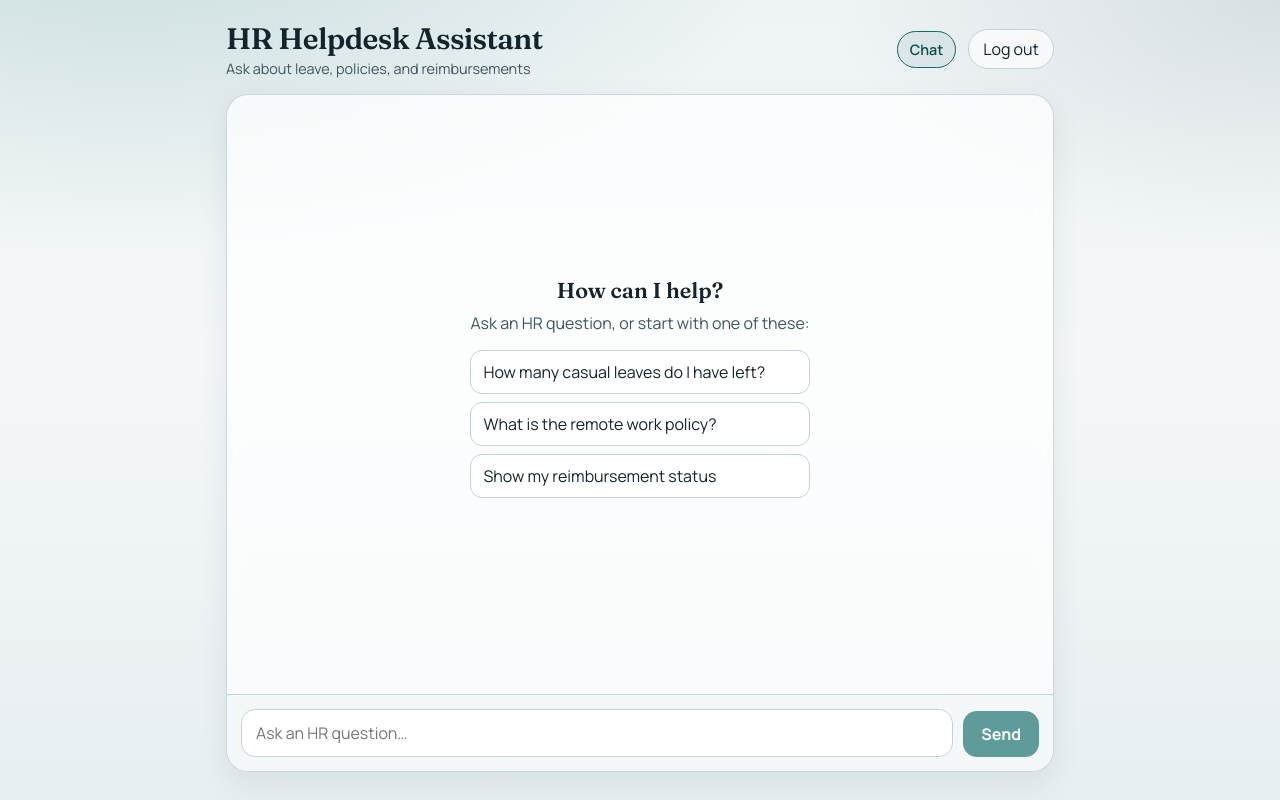
Test: Chat UI › shows distinct user and assistant bubbles with markdown
The width and height of the screenshot is (1280, 800).
In the text box named "Message": (597, 733) [241,709,953,757], type "How many casual leaves?"
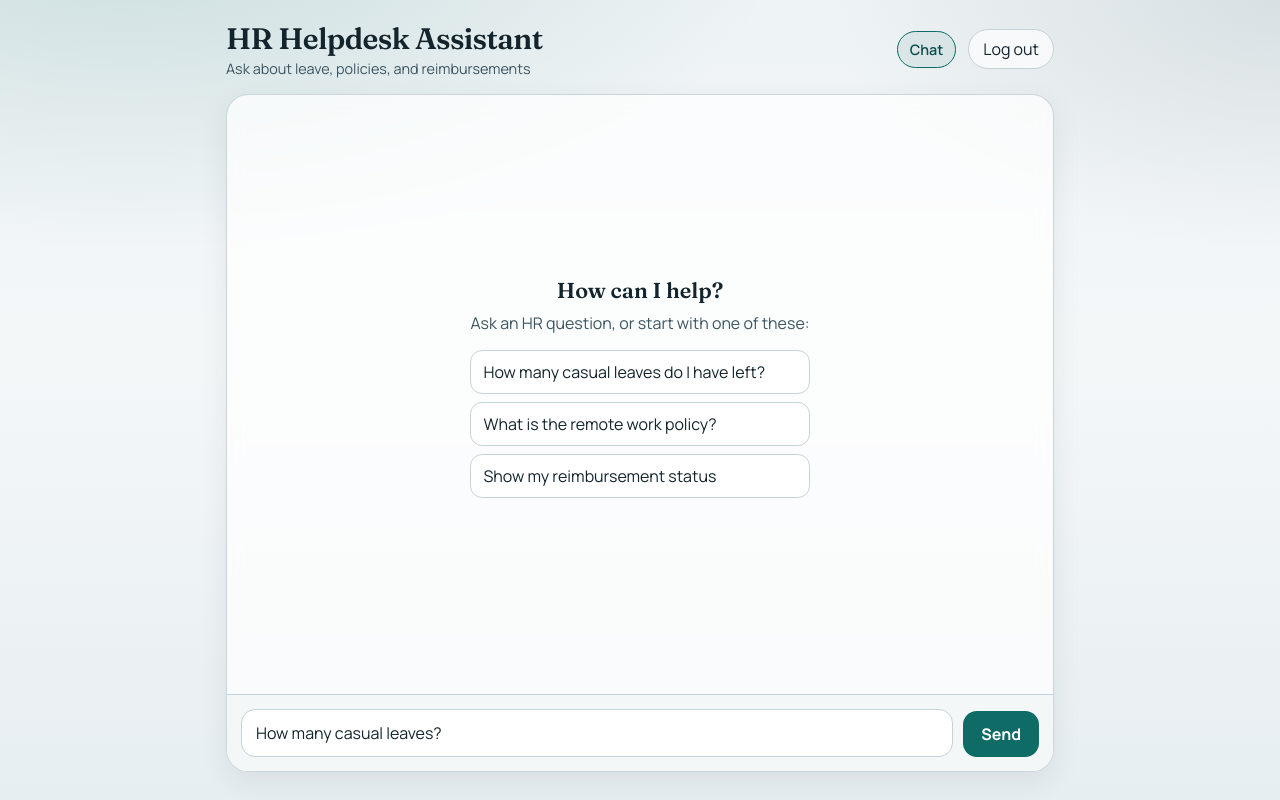
Click the button "Send": click(1001, 734) [963,711,1039,757]
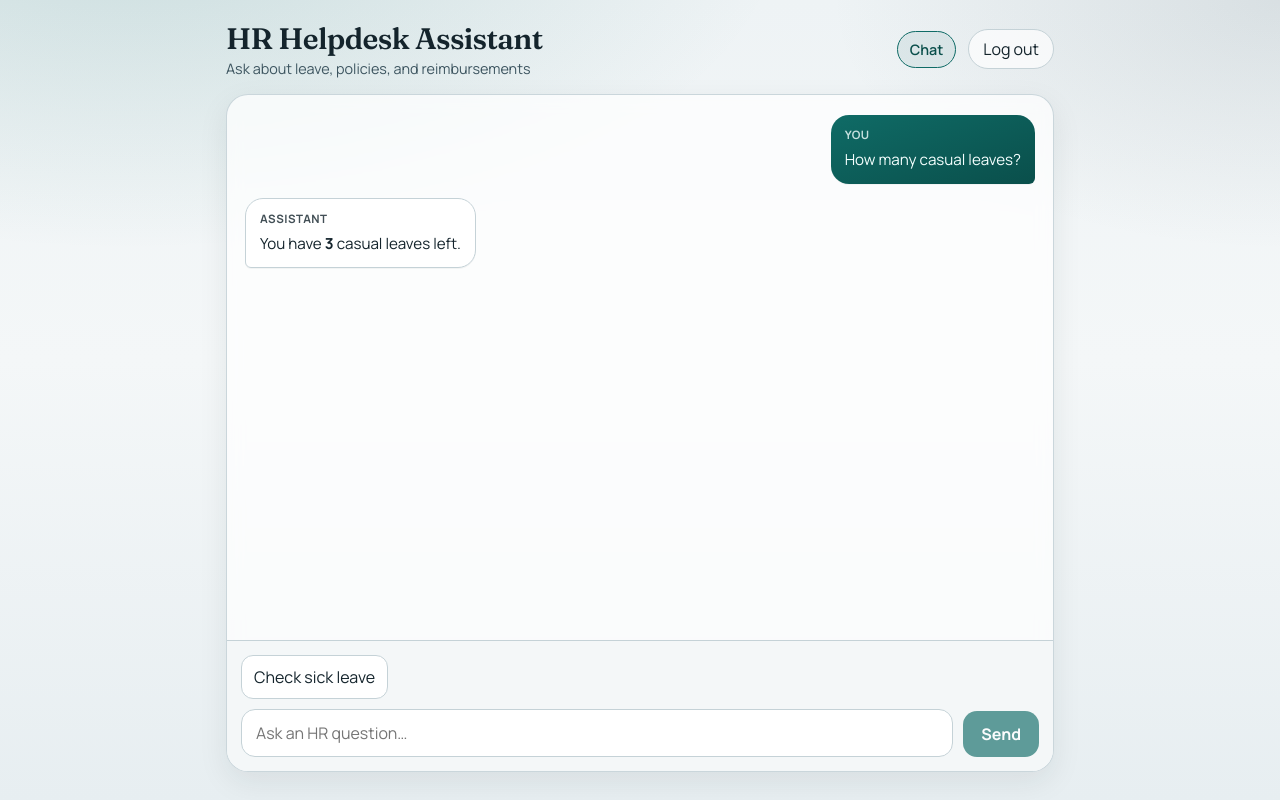
expect the element named "Your message" is shown: met, box [831,115,1035,184]
expect the element named "Assistant message" is shown: met, box [245,198,476,268]
